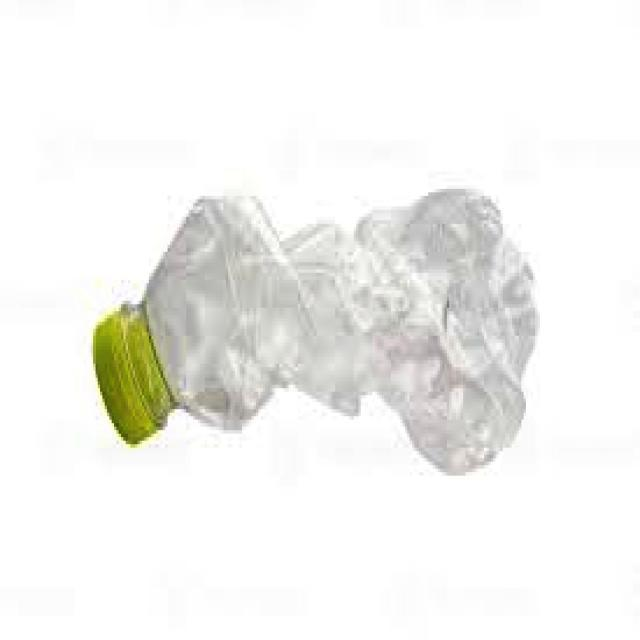BIODEGRADABLE: (96, 170, 535, 486)
